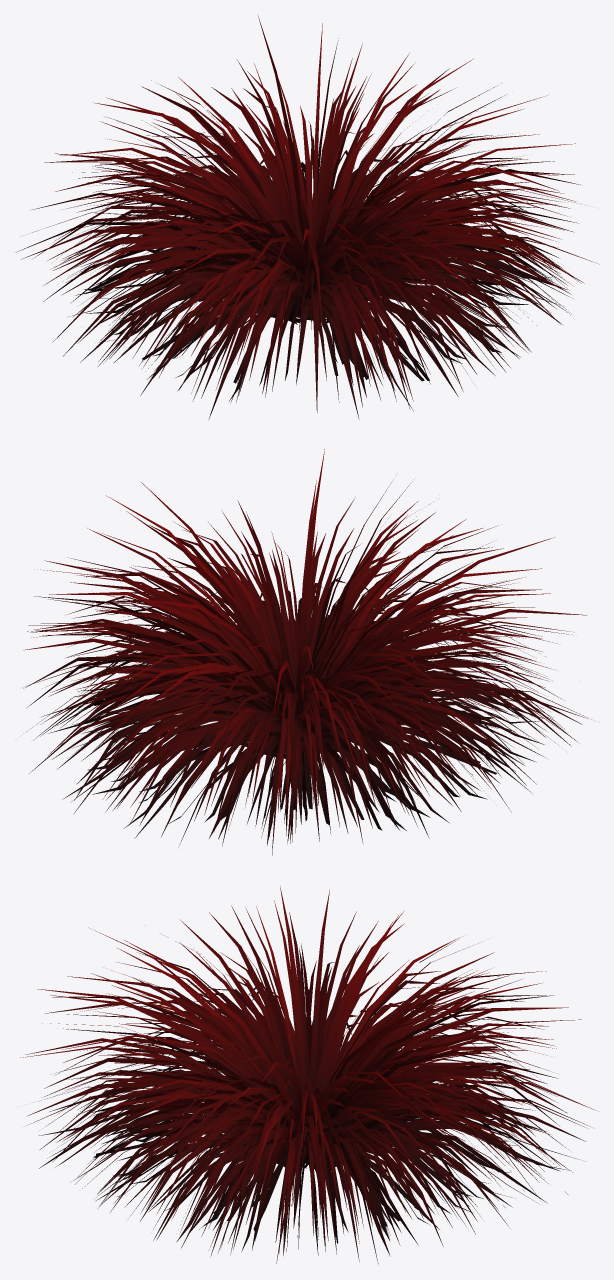
Rendered from shade_grass_v03.glb.
The picture shows the model from 3 angles, top to bottom: view 1: azimuth 30°, elevation 25°; view 2: azimuth 150°, elevation 25°; view 3: azimuth 270°, elevation 25°; orthographic projection.
Parts seen in each view (by area): view 1: shade_grass_v03; view 2: shade_grass_v03; view 3: shade_grass_v03.
Part boxes in pixels (x1,y1,x2,y2): shade_grass_v03: (16, 16, 599, 419); shade_grass_v03: (23, 449, 591, 855); shade_grass_v03: (20, 886, 596, 1263).
Size of the model in its own units: 0.9342 by 0.3689 by 0.9552.
Materials: 1 (1 with a texture image).
